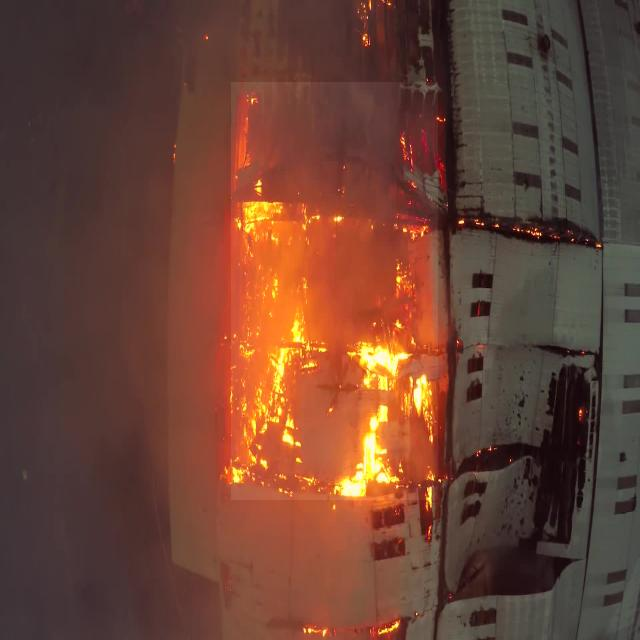Fire: (231, 82, 438, 500)
